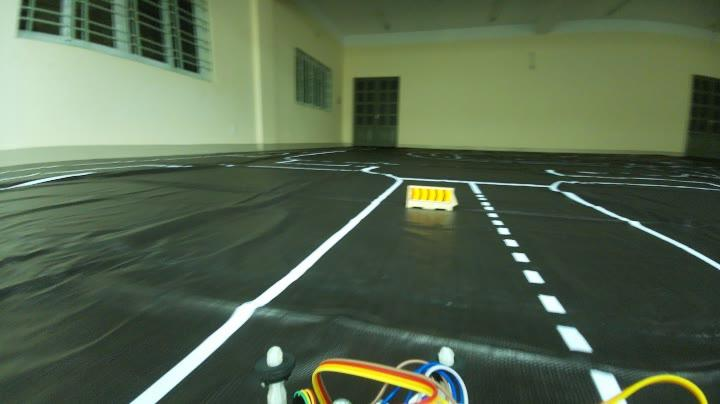roadblock: (397, 182, 458, 216)
